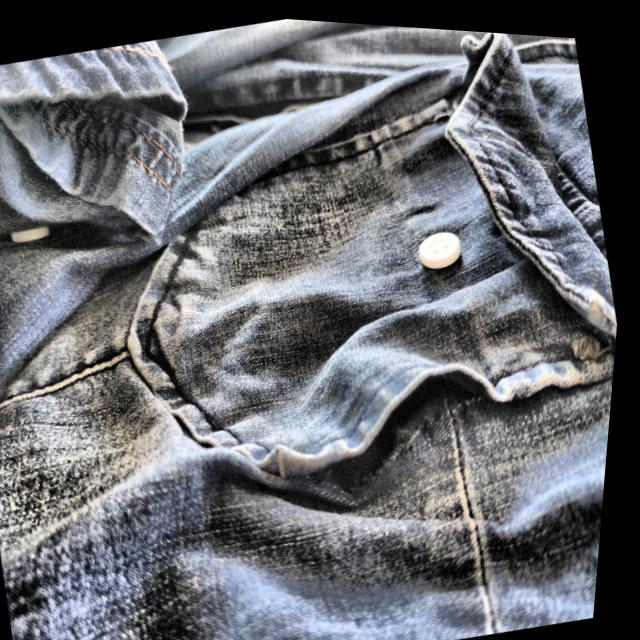seam: (275, 334, 542, 505)
